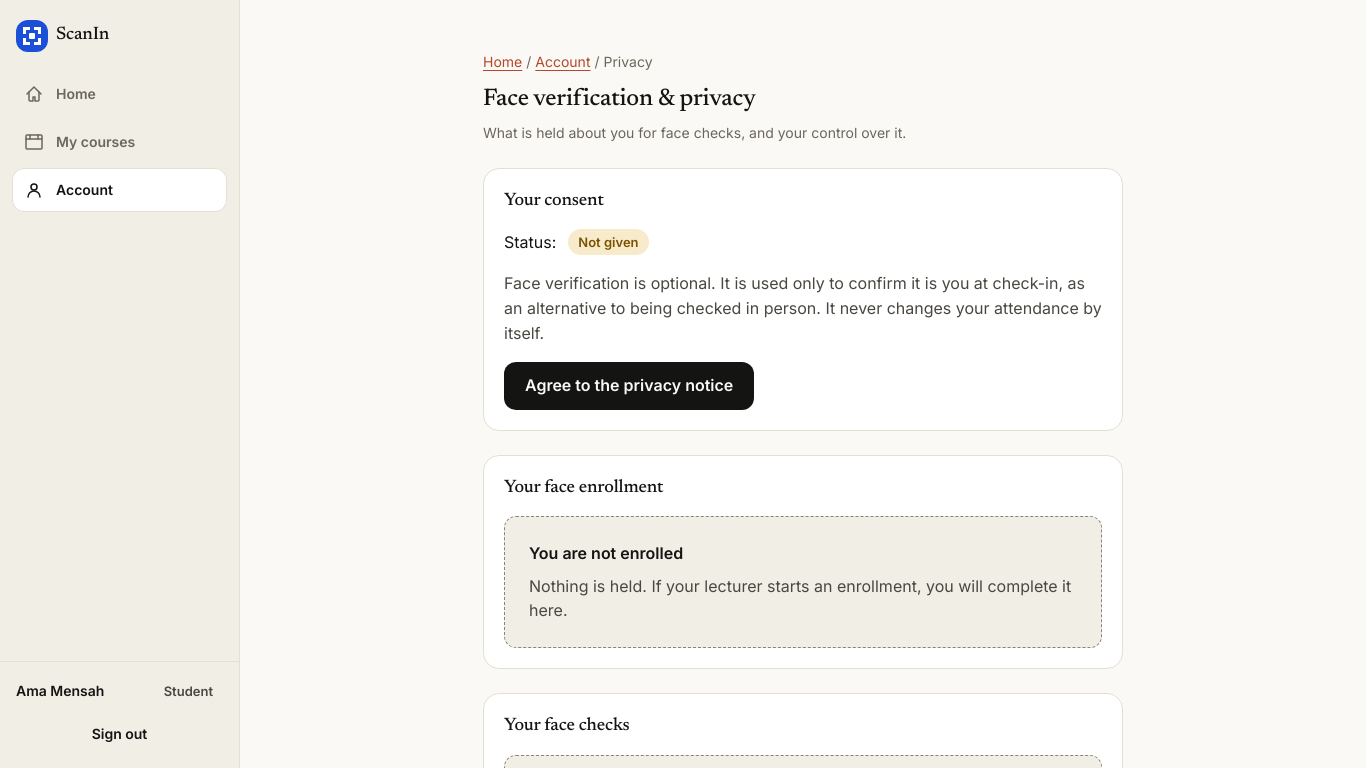
Test: student privacy page › shows consent not given, then records consent when the student agrees
Expected: the text "Not given" is shown, [568, 229, 648, 255]
Click the button "Agree to the privacy notice" at (629, 386), box [504, 362, 754, 410]
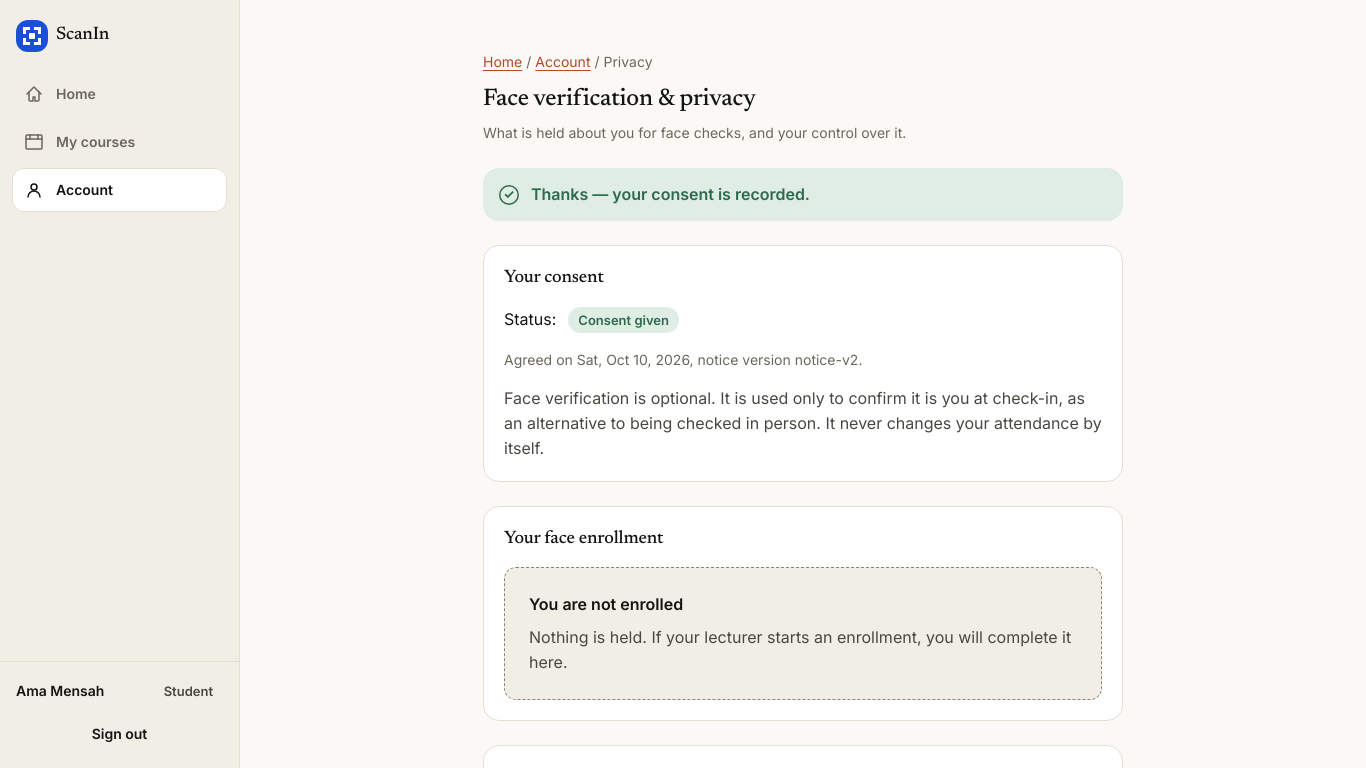
Result: the text "Consent given" is shown at [568, 307, 679, 333]
